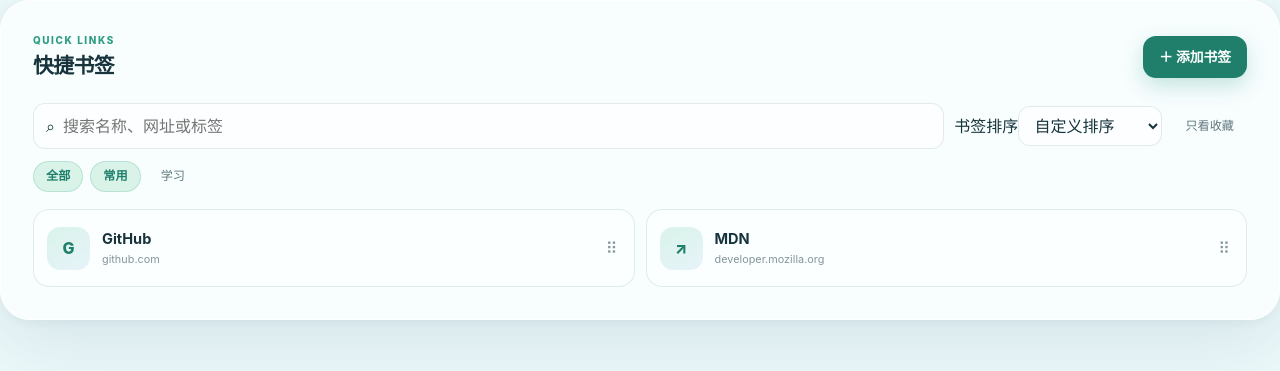
Test: BookmarkGrid › filters bookmarks by category
The width and height of the screenshot is (1280, 371).
Click the button with aria-label "只看学习": (173, 177) [148, 161, 198, 192]
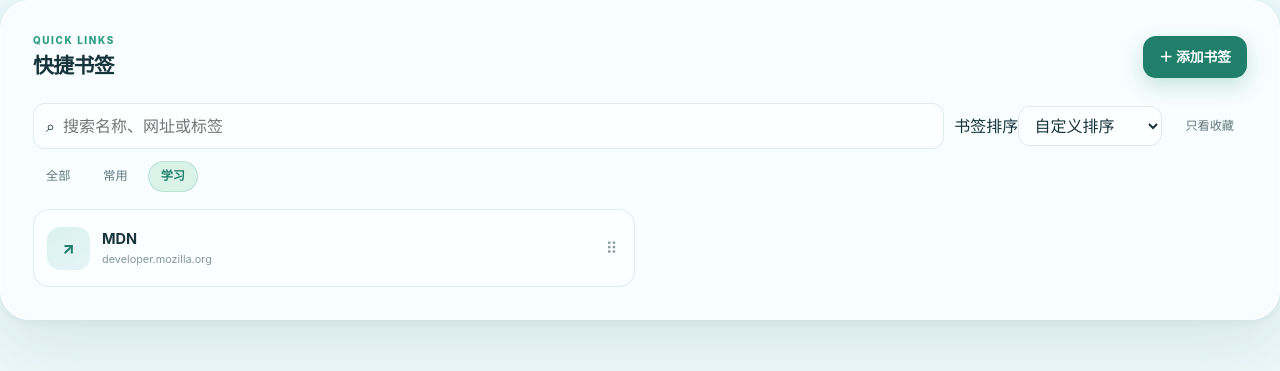
Expected: the link "↗ MDN developer.mozilla.org" is shown, [47, 227, 212, 270]
Result: the link "GitHub" is gone
